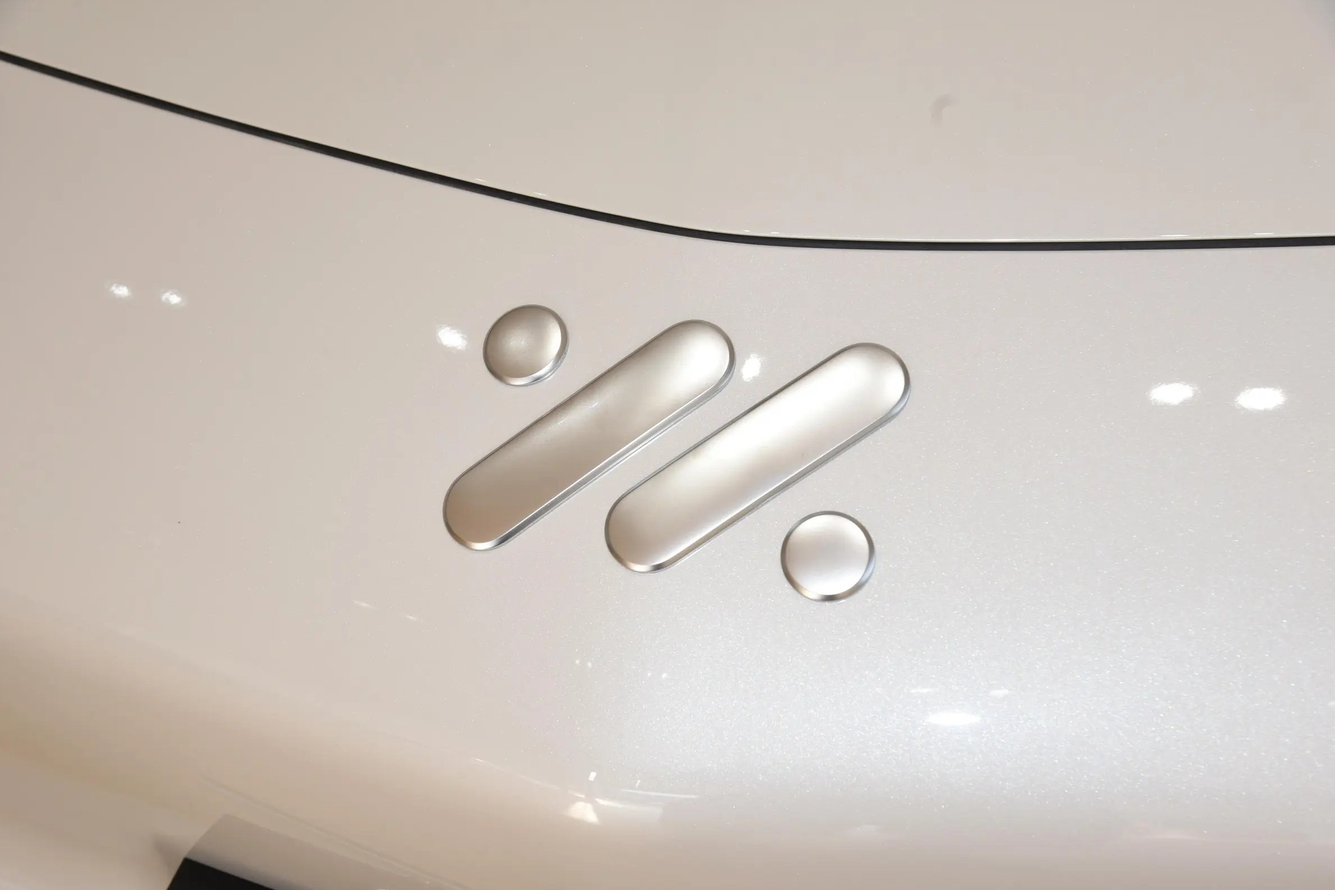IM: (442, 305, 911, 602)
